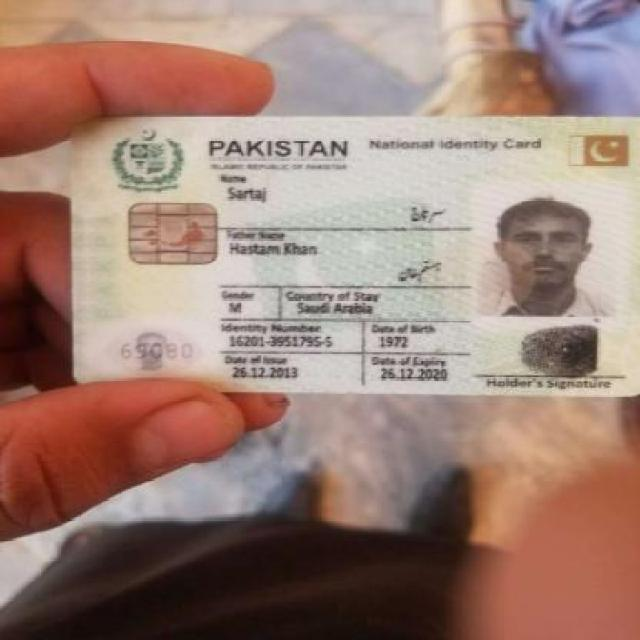Front: (60, 111, 637, 403)
